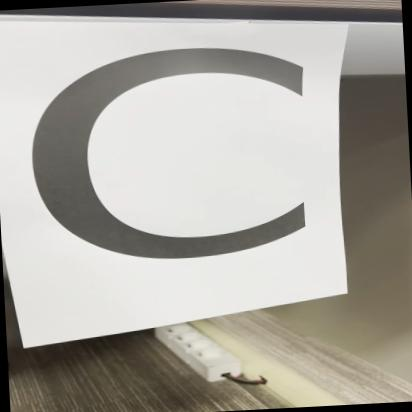seat: (0, 2, 364, 319)
